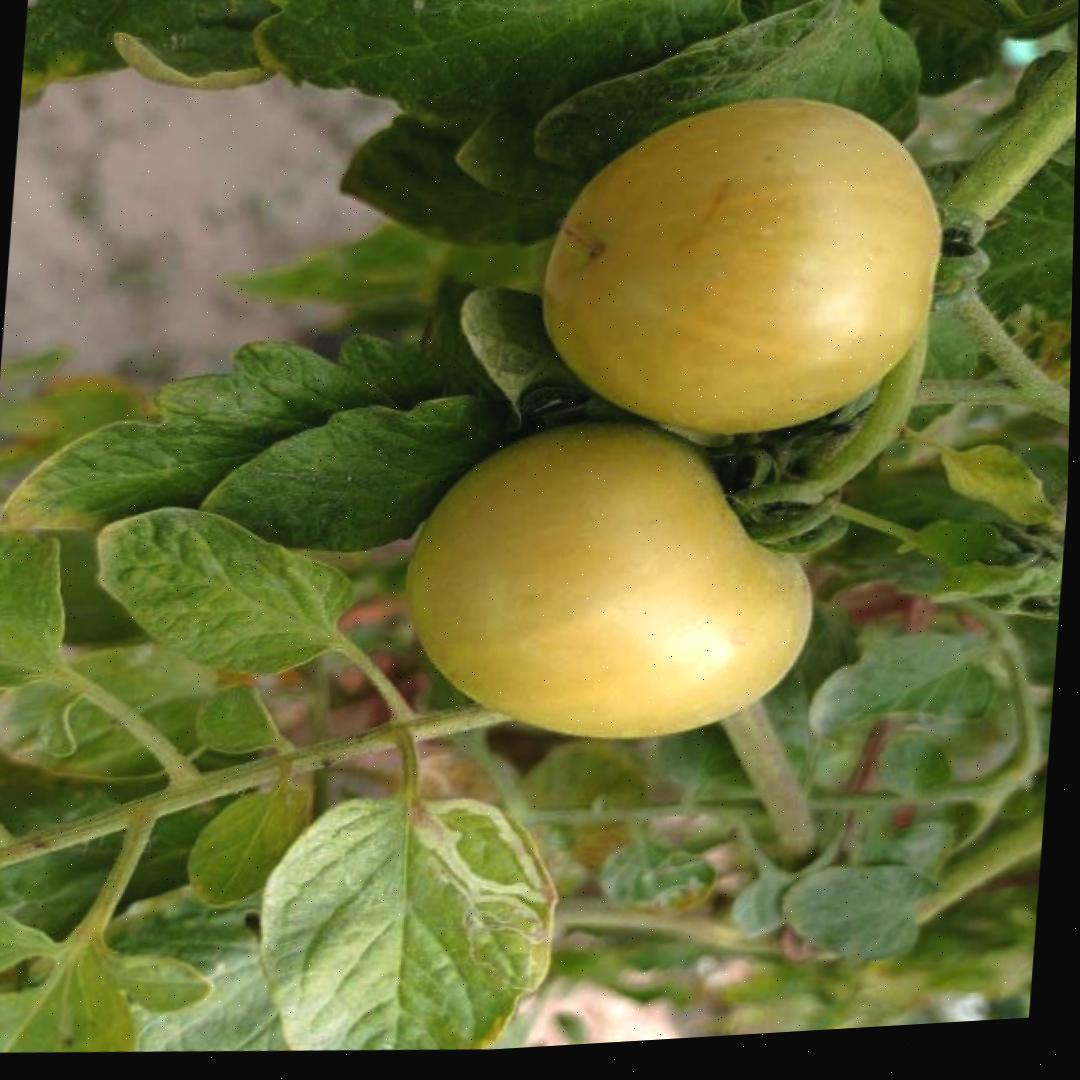mentah: (533, 71, 955, 458), (396, 396, 834, 762)
